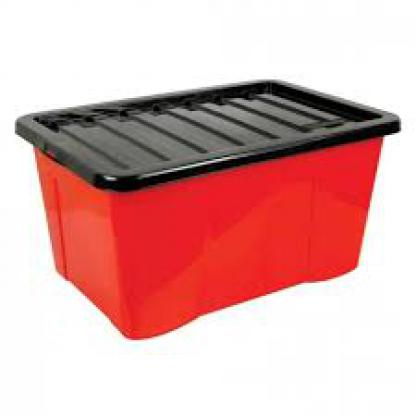plastic_box: (7, 66, 407, 350)
